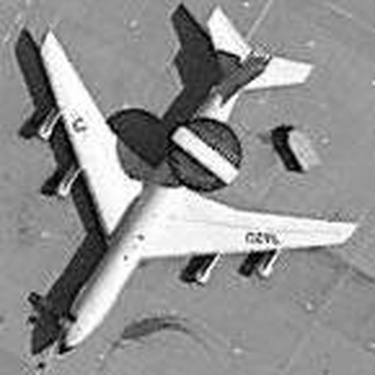airplane: (4, 1, 367, 361)
